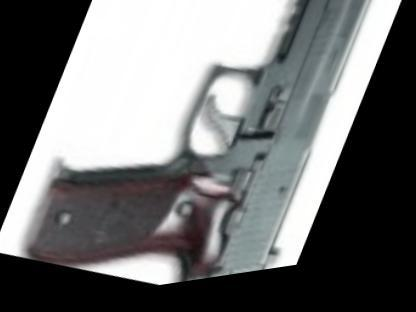pistol: (27, 0, 394, 306)
